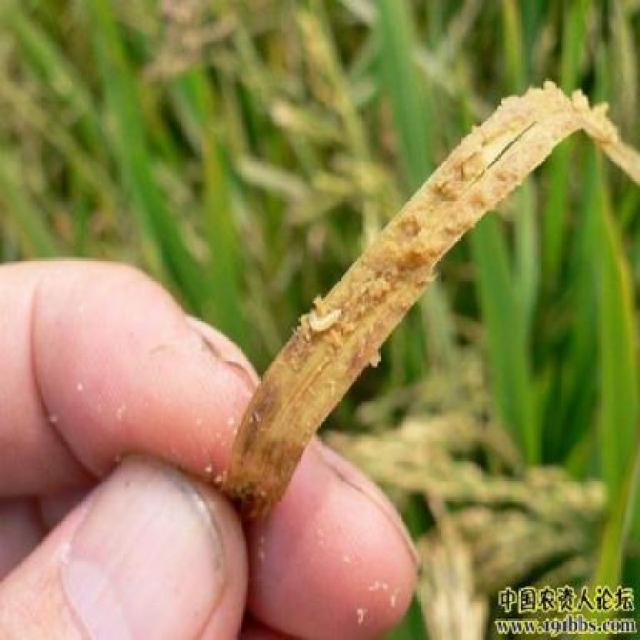whorl-maggot: (304, 292, 342, 350)
